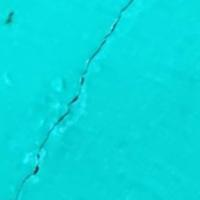crack: (23, 3, 136, 175)
